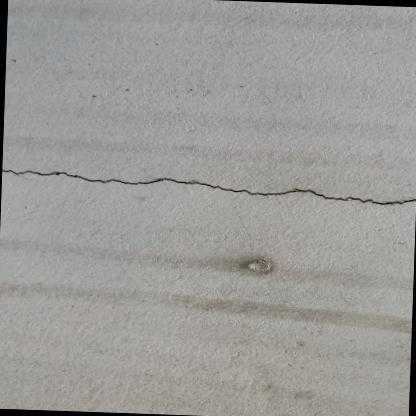crack: (1, 168, 416, 206)
